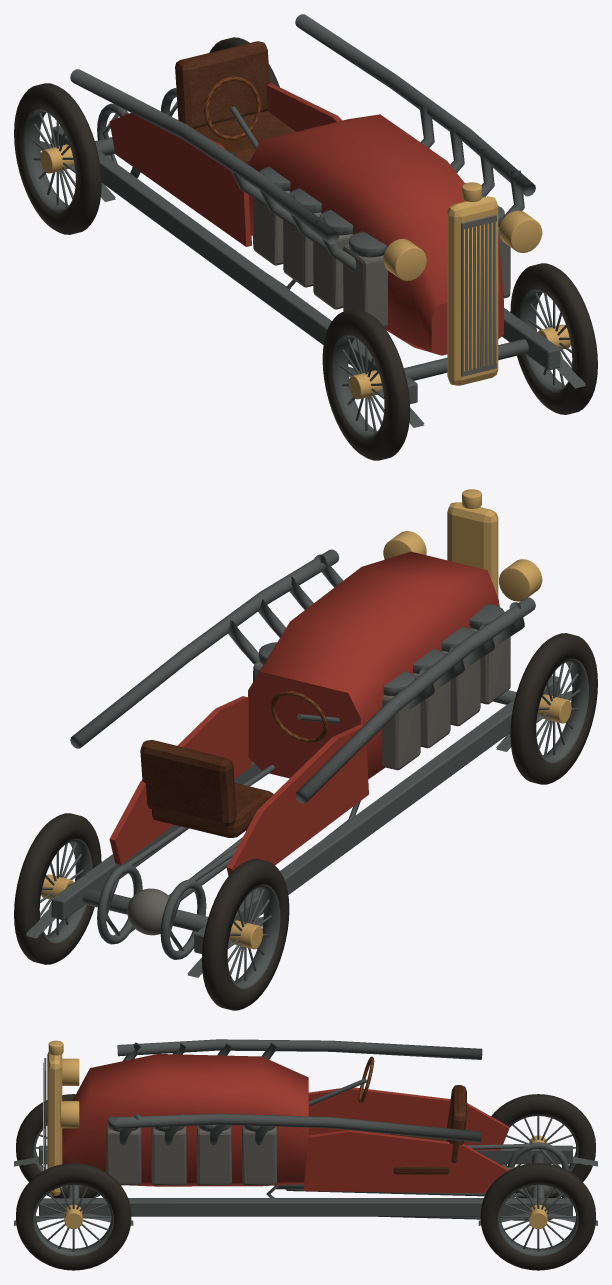
File: Fiat_S76_1910_LOD0.fbx
The picture shows the model from 3 angles, top to bottom: view 1: azimuth 30°, elevation 25°; view 2: azimuth 150°, elevation 25°; view 3: azimuth 270°, elevation 25°; orthographic projection. The views are drawn at different scales.
Visible parts, largest first — view 1: Fiat_S76_1910_Body_Root_OPT_Merged_FIAT_Paint_RecordRed_OPT_, Fiat_S76_1910_Body_Root_OPT_Merged_RB_Steel_Blackened_OPT_DA, Fiat_S76_1910_Chassis_Root_OPT_Merged_RB_Steel_Blackened_OPT, Fiat_S76_1910_Body_Root_OPT_Merged_RB_Iron_Rough_OPT_DATA, Fiat_S76_1910_Body_Root_OPT_Merged_RB_Brass_Aged_OPT_DATA, Fiat_S76_1910_Body_Root_OPT_Merged_RB_Leather_Saddle_OPT_DAT, Fiat_S76_1910_Wheel_RL_Tire_OPT, Fiat_S76_1910_Wheel_FL_Tire_OPT, Fiat_S76_1910_Wheel_FR_Tire_OPT, Fiat_S76_1910_Wheel_FL_Spin_OPT_Merged_RB_Steel_Blackened_OP, Fiat_S76_1910_Wheel_RL_Spin_OPT_Merged_RB_Steel_Blackened_OP, Fiat_S76_1910_Wheel_FR_Spin_OPT_Merged_RB_Steel_Blackened_OP (+3 smaller); view 2: Fiat_S76_1910_Body_Root_OPT_Merged_FIAT_Paint_RecordRed_OPT_, Fiat_S76_1910_Chassis_Root_OPT_Merged_RB_Steel_Blackened_OPT, Fiat_S76_1910_Body_Root_OPT_Merged_RB_Steel_Blackened_OPT_DA, Fiat_S76_1910_Body_Root_OPT_Merged_RB_Leather_Saddle_OPT_DAT, Fiat_S76_1910_Body_Root_OPT_Merged_RB_Iron_Rough_OPT_DATA, Fiat_S76_1910_Wheel_FL_Tire_OPT, Fiat_S76_1910_Wheel_RL_Tire_OPT, Fiat_S76_1910_Body_Root_OPT_Merged_RB_Brass_Aged_OPT_DATA, Fiat_S76_1910_Wheel_RR_Tire_OPT, Fiat_S76_1910_Wheel_FL_Spin_OPT_Merged_RB_Steel_Blackened_OP, Fiat_S76_1910_Wheel_RL_Spin_OPT_Merged_RB_Steel_Blackened_OP, Fiat_S76_1910_Wheel_RR_Spin_OPT_Merged_RB_Steel_Blackened_OP (+4 smaller); view 3: Fiat_S76_1910_Body_Root_OPT_Merged_FIAT_Paint_RecordRed_OPT_, Fiat_S76_1910_Chassis_Root_OPT_Merged_RB_Steel_Blackened_OPT, Fiat_S76_1910_Body_Root_OPT_Merged_RB_Steel_Blackened_OPT_DA, Fiat_S76_1910_Body_Root_OPT_Merged_RB_Iron_Rough_OPT_DATA, Fiat_S76_1910_Wheel_FR_Tire_OPT, Fiat_S76_1910_Wheel_RR_Tire_OPT, Fiat_S76_1910_Body_Root_OPT_Merged_RB_Brass_Aged_OPT_DATA, Fiat_S76_1910_Wheel_RL_Tire_OPT, Fiat_S76_1910_Wheel_FR_Spin_OPT_Merged_RB_Steel_Blackened_OP, Fiat_S76_1910_Wheel_RR_Spin_OPT_Merged_RB_Steel_Blackened_OP, Fiat_S76_1910_Wheel_FL_Tire_OPT, Fiat_S76_1910_Body_Root_OPT_Merged_RB_Leather_Saddle_OPT_DAT (+5 smaller).
Part boxes in pixels (x1,y1,x2,y2): Fiat_S76_1910_Body_Root_OPT_Merged_FIAT_Paint_RecordRed_OPT_: (109, 82, 503, 355); Fiat_S76_1910_Body_Root_OPT_Merged_RB_Steel_Blackened_OPT_DA: (70, 14, 535, 270); Fiat_S76_1910_Chassis_Root_OPT_Merged_RB_Steel_Blackened_OPT: (40, 88, 585, 427); Fiat_S76_1910_Body_Root_OPT_Merged_RB_Iron_Rough_OPT_DATA: (253, 190, 510, 376); Fiat_S76_1910_Body_Root_OPT_Merged_RB_Brass_Aged_OPT_DATA: (383, 182, 542, 385); Fiat_S76_1910_Body_Root_OPT_Merged_RB_Leather_Saddle_OPT_DAT: (175, 41, 295, 164); Fiat_S76_1910_Wheel_RL_Tire_OPT: (14, 83, 101, 234); Fiat_S76_1910_Wheel_FL_Tire_OPT: (322, 309, 410, 460); Fiat_S76_1910_Wheel_FR_Tire_OPT: (510, 263, 597, 414); Fiat_S76_1910_Wheel_FL_Spin_OPT_Merged_RB_Steel_Blackened_OP: (331, 334, 384, 439); Fiat_S76_1910_Wheel_RL_Spin_OPT_Merged_RB_Steel_Blackened_OP: (23, 108, 75, 213); Fiat_S76_1910_Wheel_FR_Spin_OPT_Merged_RB_Steel_Blackened_OP: (519, 288, 572, 393); Fiat_S76_1910_Body_Root_OPT_Merged_FIAT_Paint_RecordRed_OPT_: (109, 551, 499, 875); Fiat_S76_1910_Chassis_Root_OPT_Merged_RB_Steel_Blackened_OPT: (26, 675, 571, 977); Fiat_S76_1910_Body_Root_OPT_Merged_RB_Steel_Blackened_OPT_DA: (70, 549, 535, 803); Fiat_S76_1910_Body_Root_OPT_Merged_RB_Leather_Saddle_OPT_DAT: (140, 740, 273, 837); Fiat_S76_1910_Body_Root_OPT_Merged_RB_Iron_Rough_OPT_DATA: (253, 628, 510, 770); Fiat_S76_1910_Wheel_FL_Tire_OPT: (510, 633, 597, 784); Fiat_S76_1910_Wheel_RL_Tire_OPT: (201, 859, 289, 1010); Fiat_S76_1910_Body_Root_OPT_Merged_RB_Brass_Aged_OPT_DATA: (383, 489, 542, 601); Fiat_S76_1910_Wheel_RR_Tire_OPT: (14, 813, 101, 964); Fiat_S76_1910_Wheel_FL_Spin_OPT_Merged_RB_Steel_Blackened_OP: (536, 658, 588, 763); Fiat_S76_1910_Wheel_RL_Spin_OPT_Merged_RB_Steel_Blackened_OP: (227, 884, 280, 989); Fiat_S76_1910_Wheel_RR_Spin_OPT_Merged_RB_Steel_Blackened_OP: (39, 838, 92, 943); Fiat_S76_1910_Body_Root_OPT_Merged_FIAT_Paint_RecordRed_OPT_: (62, 1054, 509, 1193); Fiat_S76_1910_Chassis_Root_OPT_Merged_RB_Steel_Blackened_OPT: (14, 1142, 597, 1225); Fiat_S76_1910_Body_Root_OPT_Merged_RB_Steel_Blackened_OPT_DA: (107, 1039, 482, 1145); Fiat_S76_1910_Body_Root_OPT_Merged_RB_Iron_Rough_OPT_DATA: (44, 1058, 276, 1185); Fiat_S76_1910_Wheel_FR_Tire_OPT: (16, 1163, 131, 1270); Fiat_S76_1910_Wheel_RR_Tire_OPT: (480, 1163, 595, 1270); Fiat_S76_1910_Body_Root_OPT_Merged_RB_Brass_Aged_OPT_DATA: (43, 1040, 79, 1196); Fiat_S76_1910_Wheel_RL_Tire_OPT: (491, 1094, 595, 1197); Fiat_S76_1910_Wheel_FR_Spin_OPT_Merged_RB_Steel_Blackened_OP: (33, 1183, 113, 1256); Fiat_S76_1910_Wheel_RR_Spin_OPT_Merged_RB_Steel_Blackened_OP: (498, 1183, 578, 1256); Fiat_S76_1910_Wheel_FL_Tire_OPT: (16, 1094, 100, 1198); Fiat_S76_1910_Body_Root_OPT_Merged_RB_Leather_Saddle_OPT_DAT: (390, 1085, 466, 1174).
Size of the model in its own units: 165 by 168 by 465.
7 materials, 2 textured.
